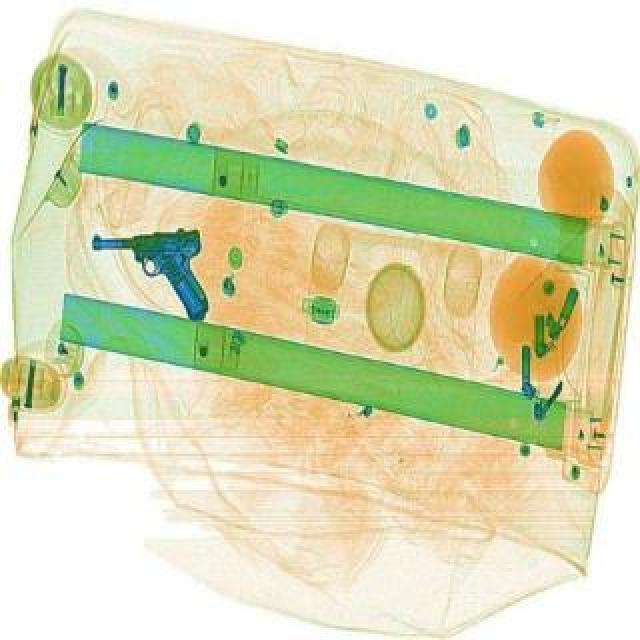gun: (86, 226, 214, 322)
